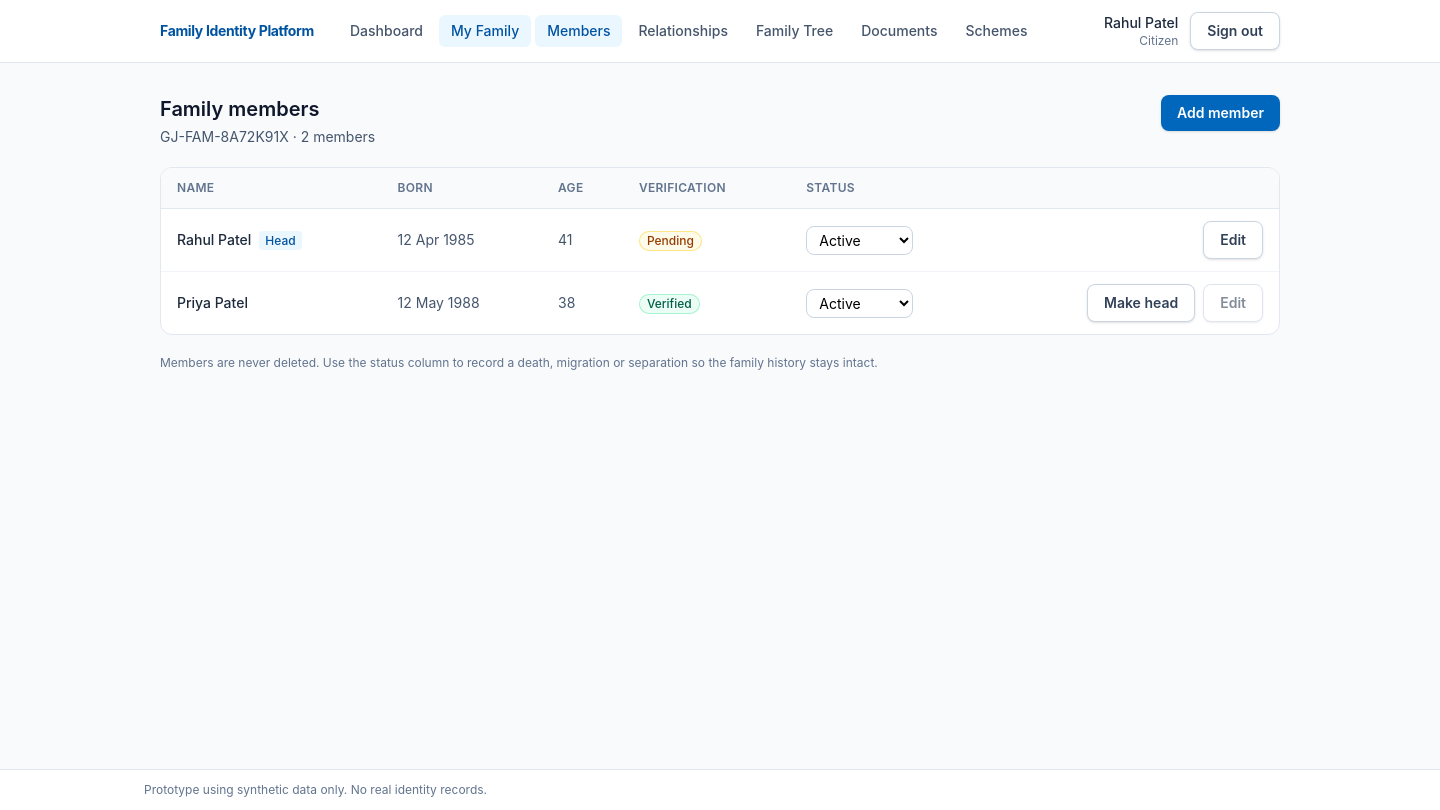
FamilyMembersPage — editing and lifecycle › records a lifecycle status change
Expected: the text "Priya Patel" is shown, [161,272,382,334]
Select "Migrated" in the dropdown named "status for priya patel". click: (860, 303)
box: [806,288,913,318]
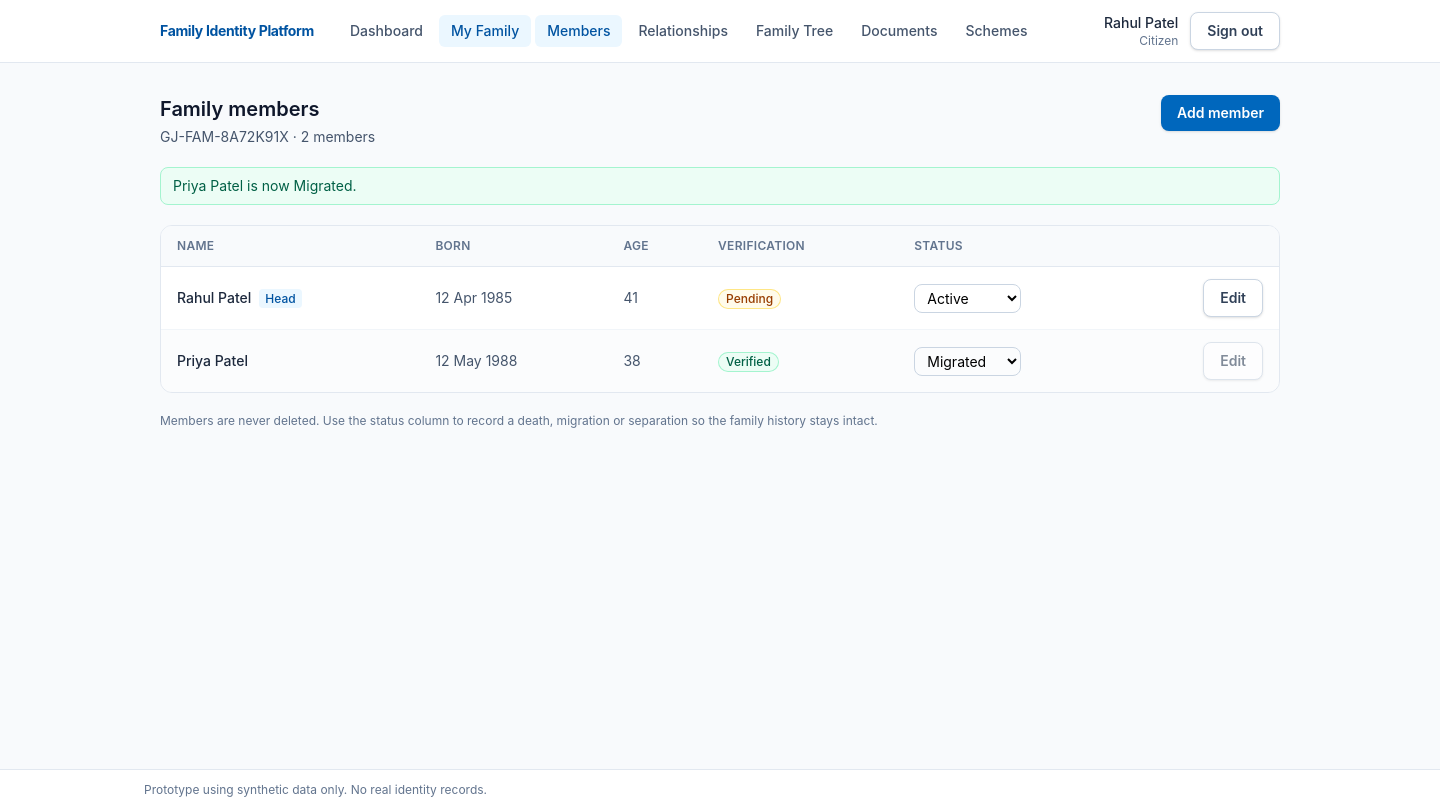
Result: the text "Priya Patel is now Migrated." is shown at [173,177,357,194]
